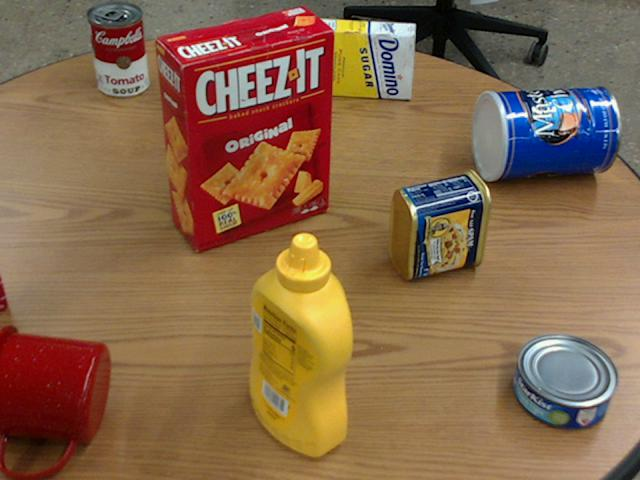cracker_box: (154, 7, 334, 251)
gelatin_box: (0, 274, 7, 309)
master_chef_can: (471, 86, 618, 180)
mug: (0, 323, 108, 475)
mustard_bottle: (250, 232, 350, 456)
potted_meat_can: (389, 168, 491, 279)
sugar_box: (280, 16, 417, 97)
tomato_soup_can: (87, 1, 148, 97)
tuna_fish_can: (512, 333, 615, 427)
